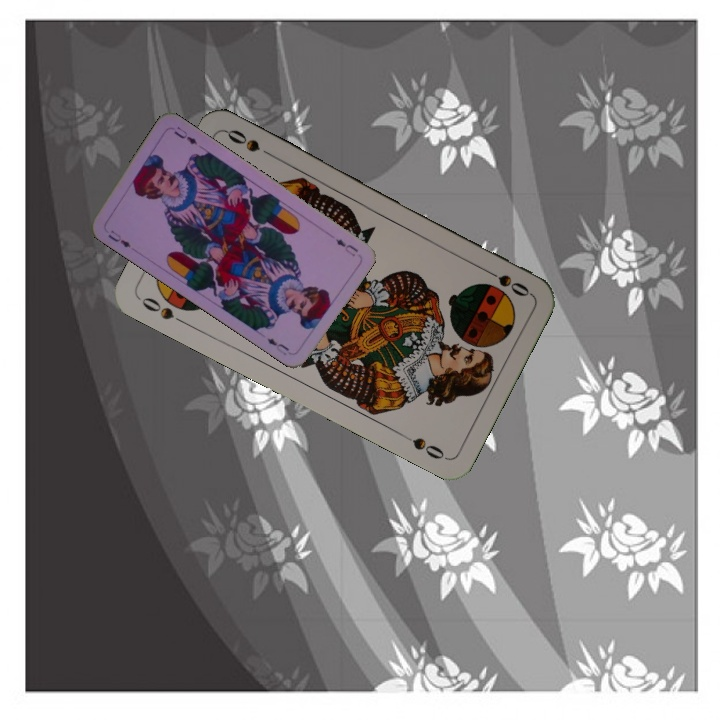EU: (331, 234, 361, 259), (104, 226, 133, 250)
SO: (478, 263, 532, 300), (137, 293, 190, 328)
